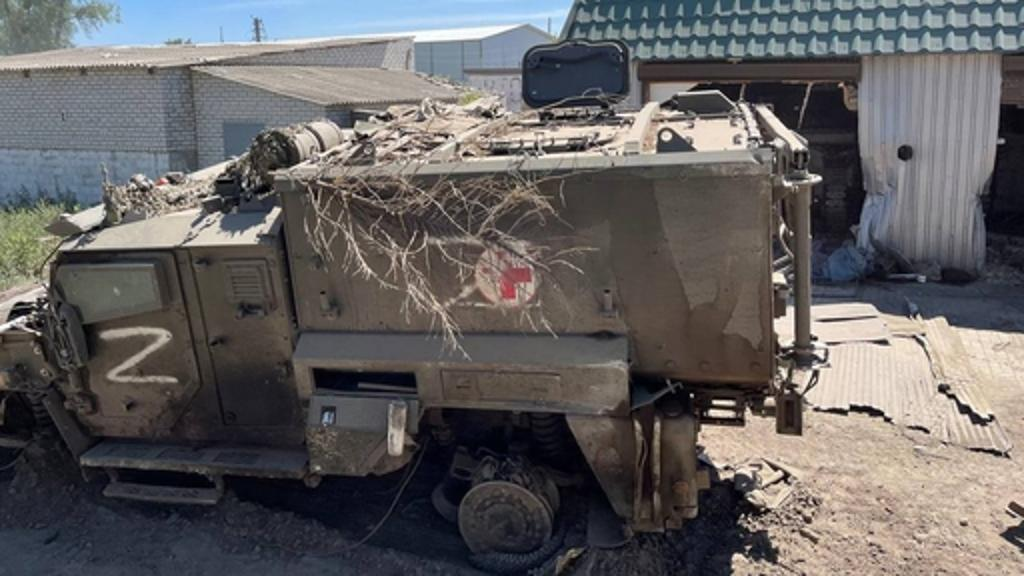CAR: (0, 82, 818, 564)
